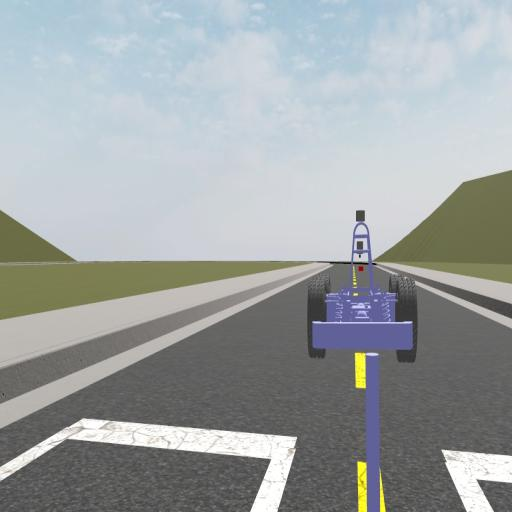ERP-42: (308, 209, 416, 363)
